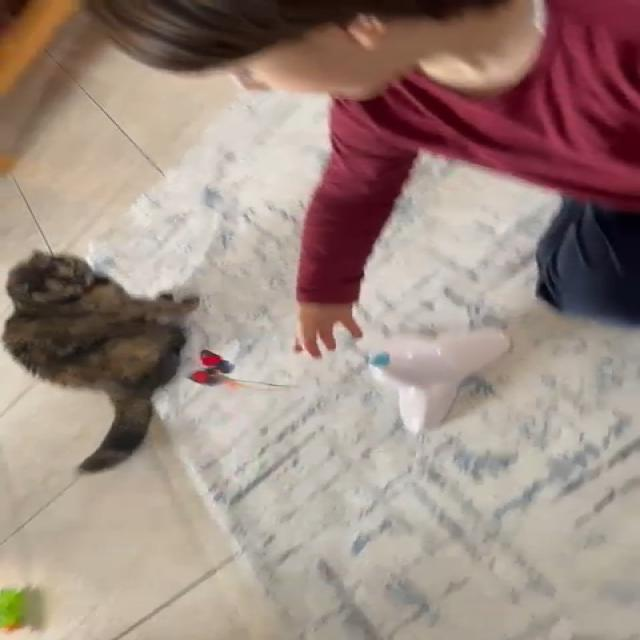authorized: (1, 248, 200, 474)
